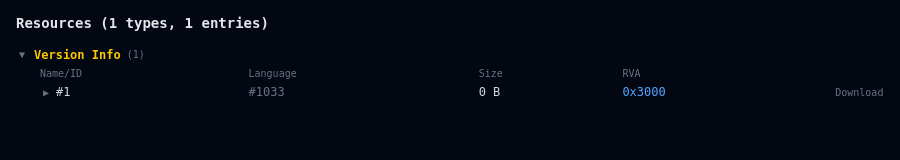
Test case: ResourcesView — leaf previews › says so when a version resource carries no strings
Click the button named "▶#1" at (55, 92), box [40,84,70,100]
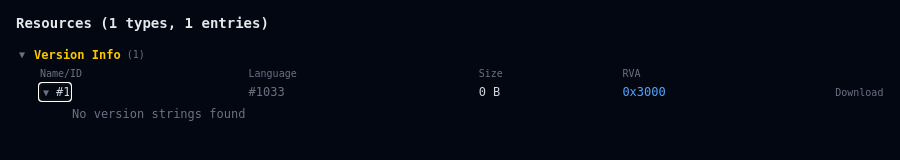
Result: the text "No version strings found" is shown at [72,107,245,121]
